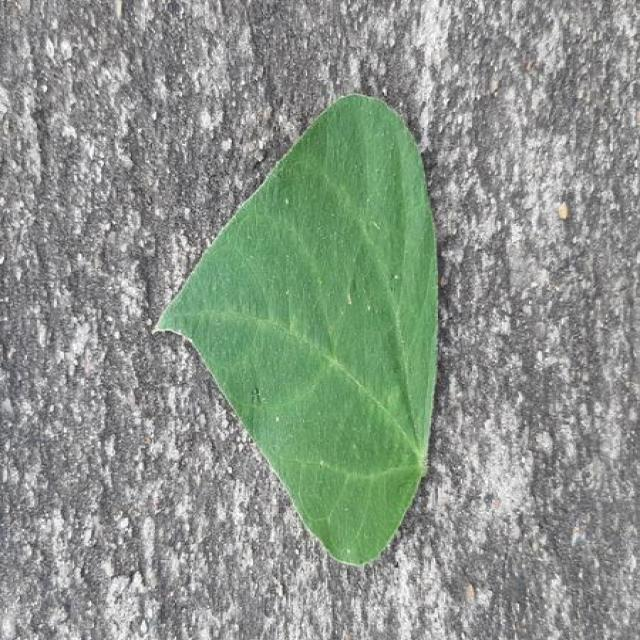beans: (158, 95, 438, 564)
